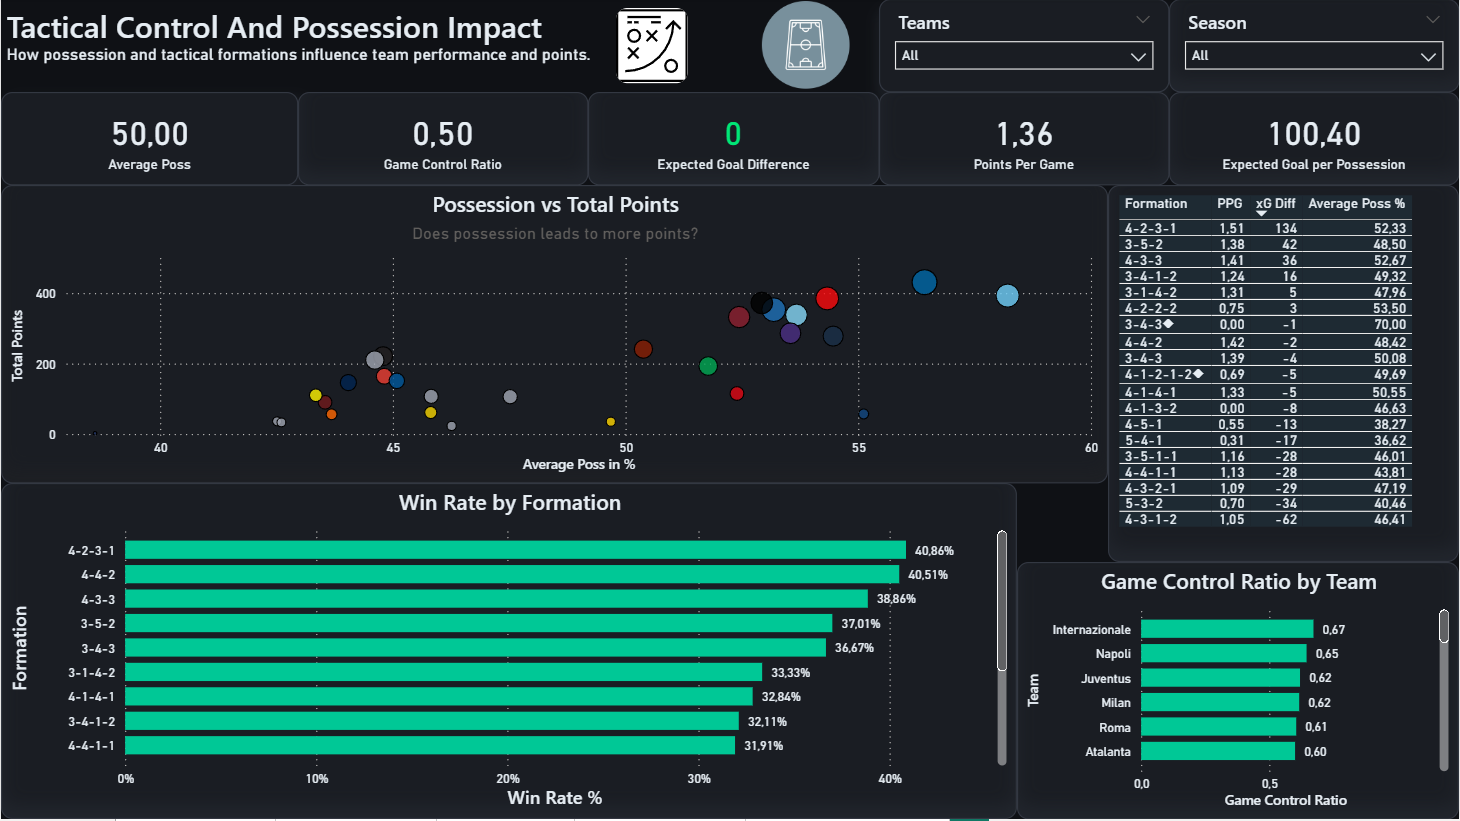

The dashboard page shown, as its layout file describes it:
{"tool":"powerbi","page":{"name":"Tactical & Game Control","canvas":[1280,720],"ordinal":3},"visuals":[{"type":"slicer","fields":{"Values":["matches_seriea.team"]},"box":[770.9,0,254.6,81.7],"z":0},{"type":"slicer","fields":{"Values":["matches_seriea.season"]},"box":[1025.6,0,254.6,81.7],"z":1000},{"type":"card","fields":{"Values":["matches_seriea.Average Poss"]},"box":[0,81.7,260.8,81.7],"z":2000},{"type":"card","fields":{"Values":["matches_seriea.Game Control Ratio"]},"box":[260.8,81.7,254.6,81.7],"z":3000},{"type":"card","fields":{"Values":["matches_seriea.xG Diff"]},"box":[515.4,81.7,255.5,81.7],"z":4000},{"type":"card","fields":{"Values":["matches_seriea.PPG"]},"box":[770.9,81.7,254.6,81.7],"z":5000},{"type":"card","fields":{"Values":["matches_seriea.xG per Possession"]},"box":[1025.6,81.7,254.6,81.7],"z":6000},{"type":"scatterChart","title":"Possession vs Total Points","fields":{"X":["matches_seriea.Average Poss"],"Y":["matches_seriea.Total Points"],"Size":["matches_seriea.Total Goals"],"Category":["SERIE A LOGOS - Foglio1 (1).Team"]},"box":[0,163.3,972,261.7],"z":7000},{"type":"barChart","fields":{"Category":["matches_seriea.team"],"Y":["matches_seriea.Game Control Ratio"]},"box":[892.1,494.3,388.1,225.7],"z":8000},{"type":"barChart","title":"Win Rate by Formation","fields":{"Category":["matches_seriea.formation"],"Y":["matches_seriea.Win Rate %"]},"box":[0,425,892.1,295],"z":9000},{"type":"tableEx","fields":{"Values":["matches_seriea.formation","matches_seriea.PPG","matches_seriea.xG Diff","matches_seriea.Average Poss"]},"box":[972,163.3,308.2,331],"z":10000},{"type":"textbox","box":[0,0,539.8,81.7],"z":11000},{"type":"image","box":[640,1.9,132.3,76.8],"z":12000},{"type":"image","box":[539.8,7.8,63.2,66.1],"z":13000}]}

Visuals, with their boxes in screenshot pixels (x1, y1, x2, y2), scaled from the page's 1280x720 canvas onto the 1460x821 screenshot:
slicer - matches_seriea.team: {"x1": 879, "y1": 0, "x2": 1170, "y2": 93}
slicer - matches_seriea.season: {"x1": 1170, "y1": 0, "x2": 1459, "y2": 93}
card - matches_seriea.Average Poss: {"x1": 0, "y1": 93, "x2": 297, "y2": 186}
card - matches_seriea.Game Control Ratio: {"x1": 297, "y1": 93, "x2": 588, "y2": 186}
card - matches_seriea.xG Diff: {"x1": 588, "y1": 93, "x2": 879, "y2": 186}
card - matches_seriea.PPG: {"x1": 879, "y1": 93, "x2": 1170, "y2": 186}
card - matches_seriea.xG per Possession: {"x1": 1170, "y1": 93, "x2": 1459, "y2": 186}
"Possession vs Total Points" scatterChart: {"x1": 0, "y1": 186, "x2": 1109, "y2": 485}
barChart - matches_seriea.team x matches_seriea.Game Control Ratio: {"x1": 1018, "y1": 564, "x2": 1459, "y2": 820}
"Win Rate by Formation" barChart: {"x1": 0, "y1": 485, "x2": 1018, "y2": 820}
tableEx - matches_seriea.formation x matches_seriea.PPG: {"x1": 1109, "y1": 186, "x2": 1459, "y2": 564}
textbox: {"x1": 0, "y1": 0, "x2": 616, "y2": 93}
image: {"x1": 730, "y1": 2, "x2": 881, "y2": 90}
image: {"x1": 616, "y1": 9, "x2": 688, "y2": 84}
